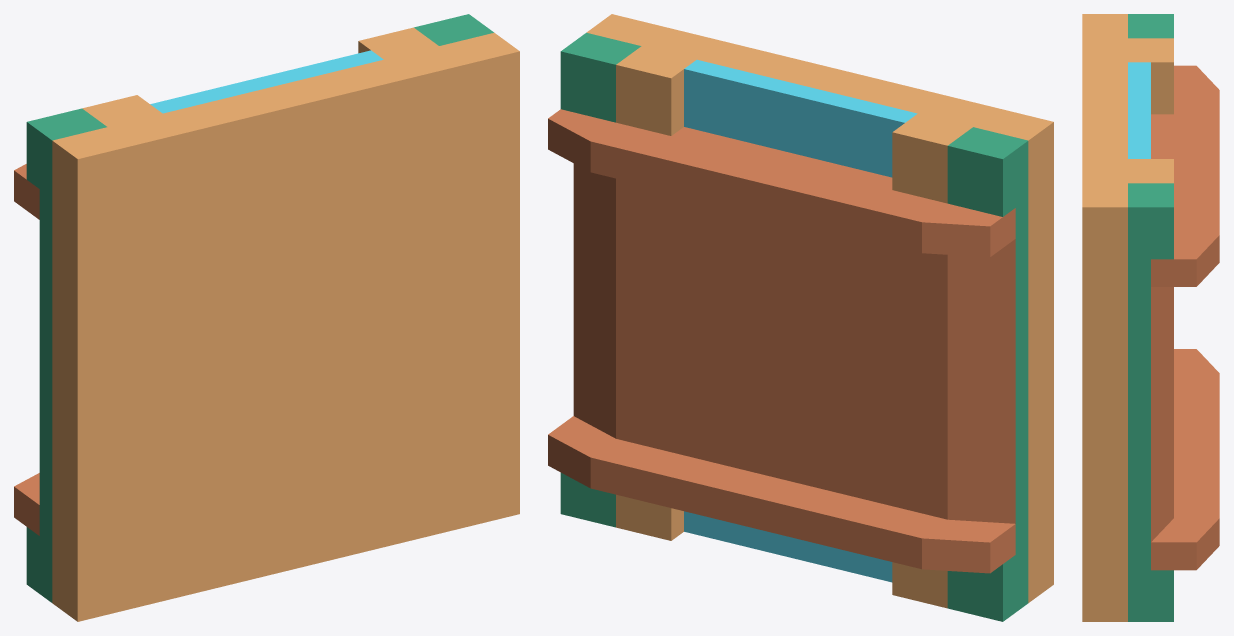
The model's file is tile_riverBridge.obj.
3 renders of one model, left to right at view 1: azimuth 30°, elevation 25°; view 2: azimuth 150°, elevation 25°; view 3: azimuth 270°, elevation 25°, orthographic. The views are drawn at different scales.
Parts seen in each view (by area): view 1: tile_riverBridge.007; view 2: tile_riverBridge.007; view 3: tile_riverBridge.007.
Part boxes in pixels (x1=…): tile_riverBridge.007: x1=14, y1=14, x2=519, y2=621; tile_riverBridge.007: x1=548, y1=14, x2=1053, y2=621; tile_riverBridge.007: x1=1082, y1=14, x2=1219, y2=621.
Size of the model in its own units: 1 by 1 by 0.3.
